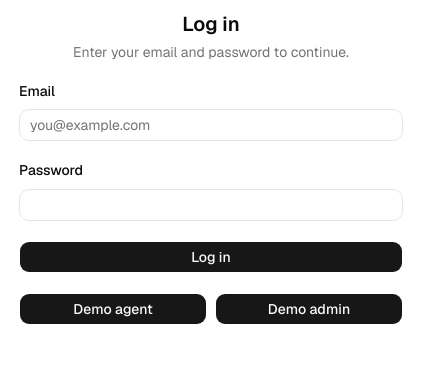
client-side validation › shows an inline error and never submits when password is empty
Type "user@example.com" into the field labelled "Email". click: [211, 125]
box: [19,109,403,141]
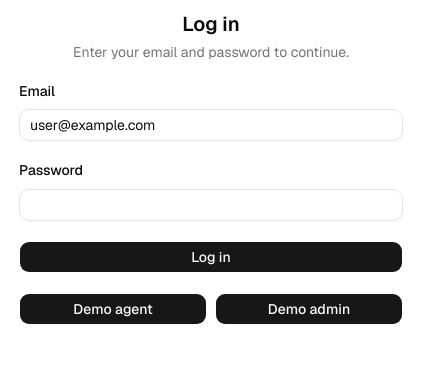
Click the button "Log in". click: [211, 256]
box: [19,240,403,272]
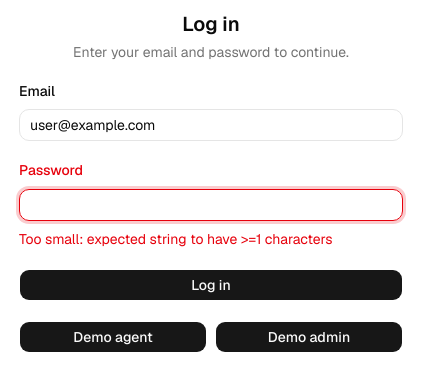
Check: the message "Too small: expected string to have >=1 characters" is shown, box [19,230,333,248]
